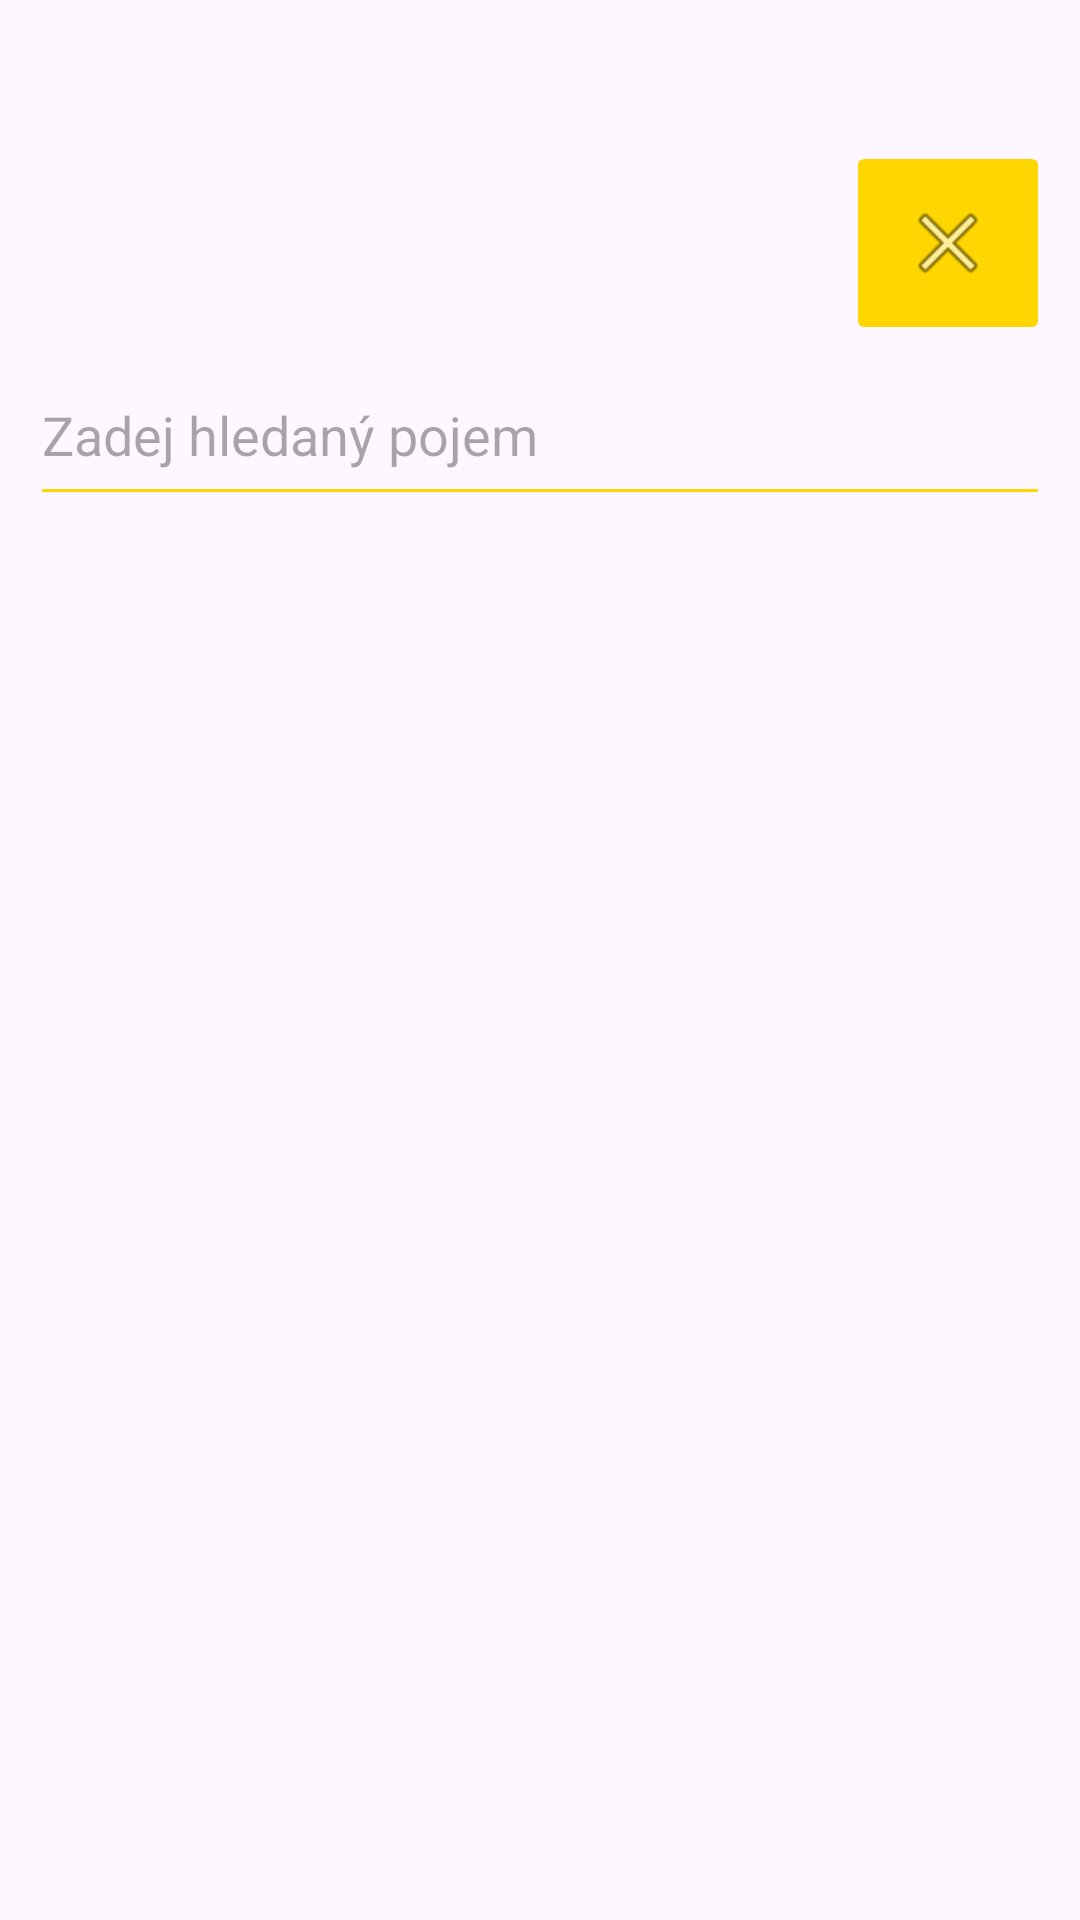

Icons on this 1080 × 1920 Android screen, each with the point to tap as [x,y]:
close clear cancel: [948,243]
